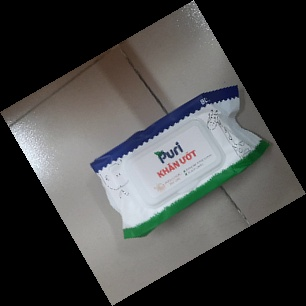Puri Trang: (88, 82, 270, 241)
